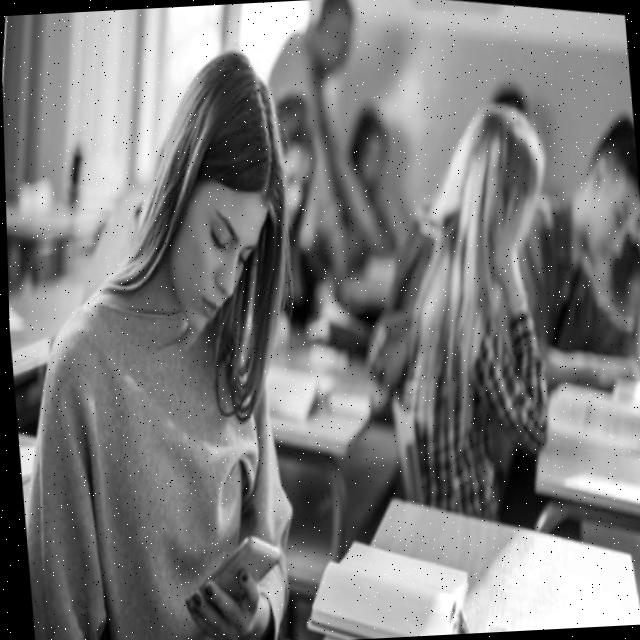phone: (175, 525, 285, 627)
